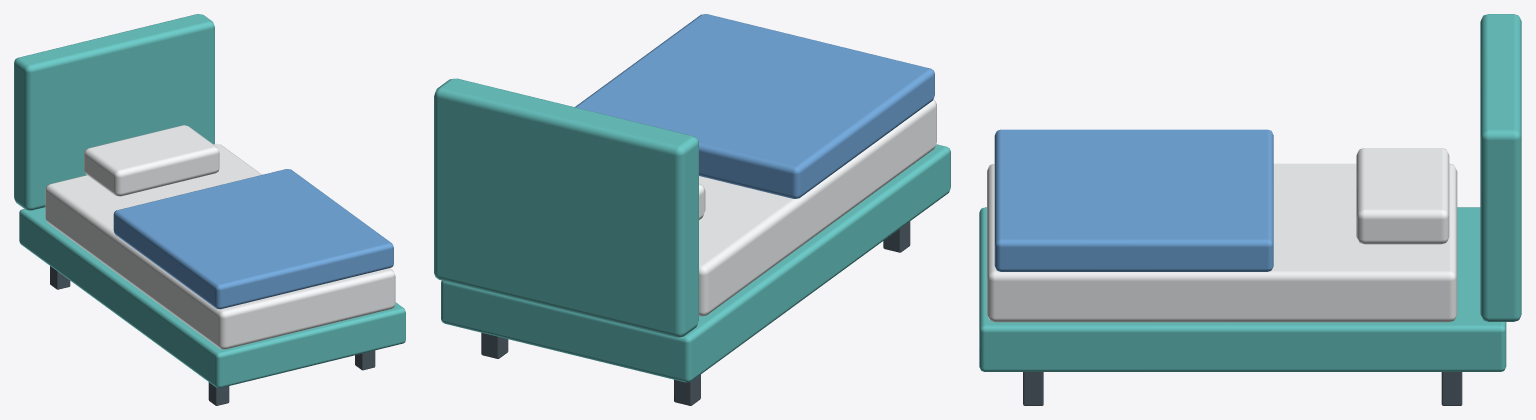
Rendered from living-bed.glb.
The picture shows the model from 3 angles, left to right: view 1: azimuth 30°, elevation 25°; view 2: azimuth 150°, elevation 25°; view 3: azimuth 270°, elevation 25°; orthographic projection. The views are drawn at different scales.
Visible parts, largest first — view 1: headboard, blanket, mattress, frame, pillow, leg--0.43-0.81; view 2: headboard, blanket, frame, mattress, leg--0.43--0.81, leg-0.43--0.81, leg--0.43-0.81; view 3: blanket, mattress, frame, headboard, pillow, leg-0.43--0.81, leg-0.43-0.81.
Part boxes in pixels (box(x1,y1,x2,y2)): headboard: box(14, 14, 214, 210); blanket: box(113, 169, 393, 309); mattress: box(45, 143, 395, 349); frame: box(19, 207, 405, 387); pillow: box(84, 125, 219, 196); leg--0.43-0.81: box(208, 382, 229, 405); headboard: box(434, 78, 698, 337); blanket: box(575, 14, 934, 198); frame: box(441, 144, 950, 382); mattress: box(699, 99, 936, 316); leg--0.43--0.81: box(674, 374, 700, 405); leg-0.43--0.81: box(481, 332, 508, 358); leg--0.43-0.81: box(883, 221, 910, 252); blanket: box(994, 129, 1273, 271); mattress: box(987, 163, 1457, 322); frame: box(979, 207, 1506, 371); headboard: box(1480, 14, 1521, 321); pillow: box(1356, 148, 1449, 244); leg-0.43--0.81: box(1441, 372, 1462, 405); leg-0.43-0.81: box(1023, 372, 1043, 405).
Size of the model in its own units: 1.12 by 1.21 by 2.1.
